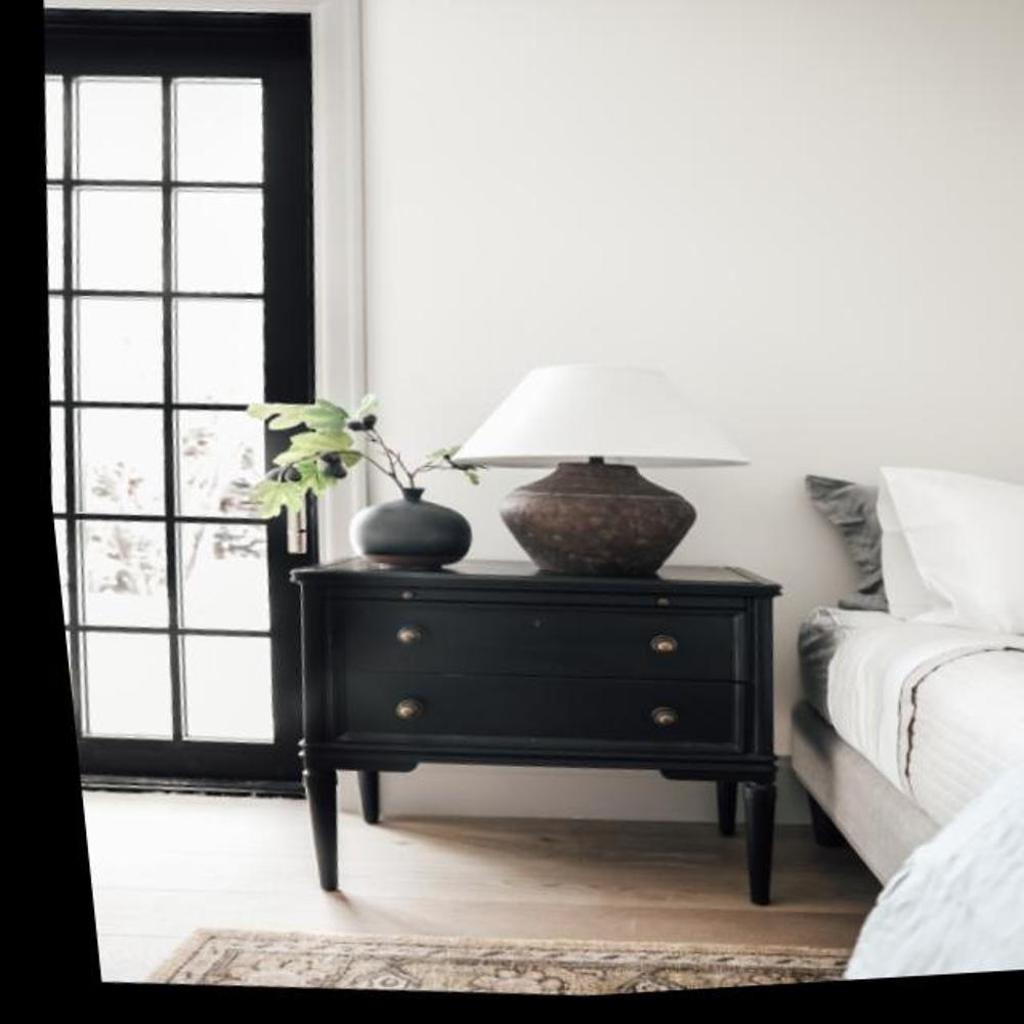shelf: (410, 317, 792, 608)
